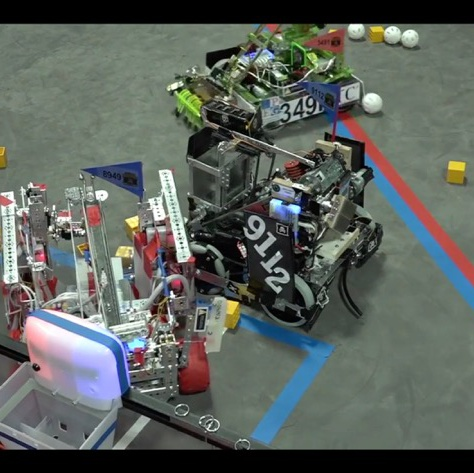robot: (3, 157, 221, 402), (181, 89, 392, 333), (162, 17, 381, 136)
